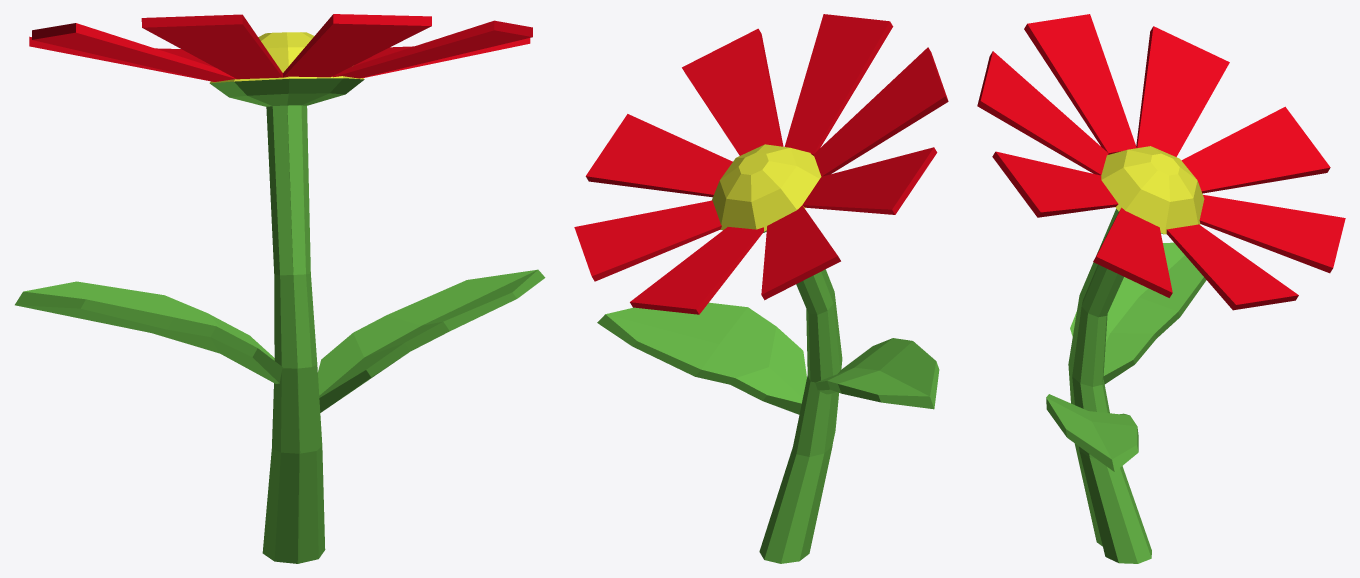
The model's file is cicek2.fbx.
The picture shows the model from 3 angles, left to right: view 1: azimuth 30°, elevation 25°; view 2: azimuth 150°, elevation 25°; view 3: azimuth 270°, elevation 25°; orthographic projection. The views are drawn at different scales.
Visible parts, largest first — view 1: cicek2kok, cicek2; view 2: cicek2, cicek2kok; view 3: cicek2, cicek2kok.
Boxes of the visible parts, x1,y1,x2,y2 form: cicek2kok: (15, 32, 545, 563); cicek2: (29, 14, 532, 81); cicek2: (574, 14, 948, 314); cicek2kok: (597, 144, 939, 563); cicek2: (977, 14, 1345, 310); cicek2kok: (1046, 146, 1206, 563).
Size of the model in its own units: 107 by 131 by 90.29.
